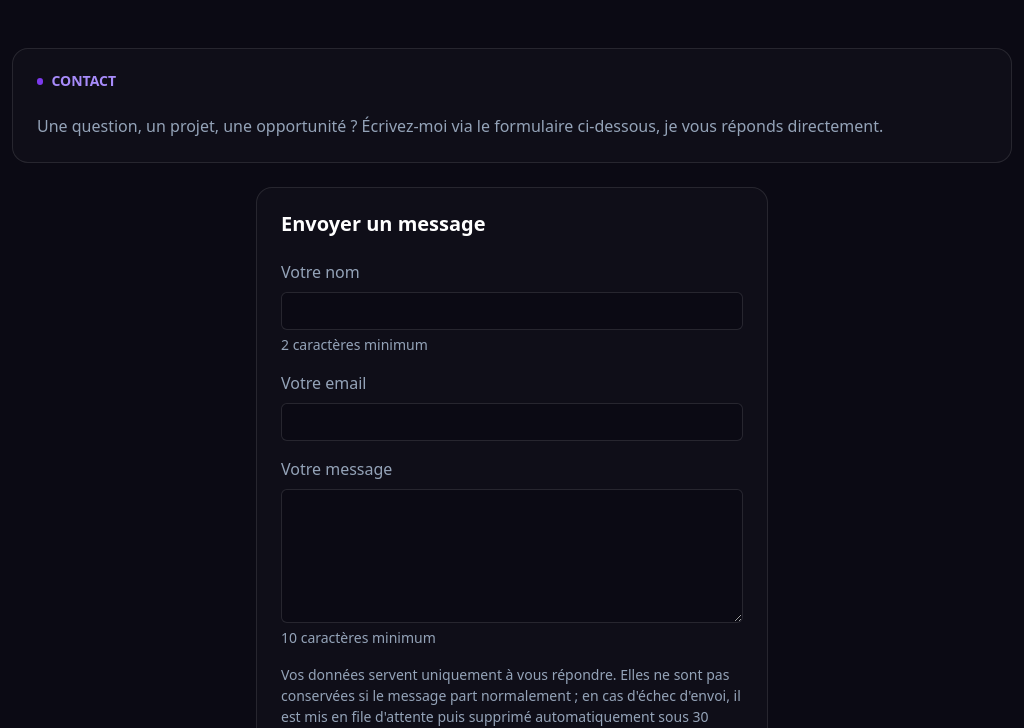
Test: ContactPage › signale le champ refusé sous le champ lui-même et l'y relie par aria-describedby
In the field with id "contact-name": (512, 311) [281,292,743,330], type "Jane Doe"
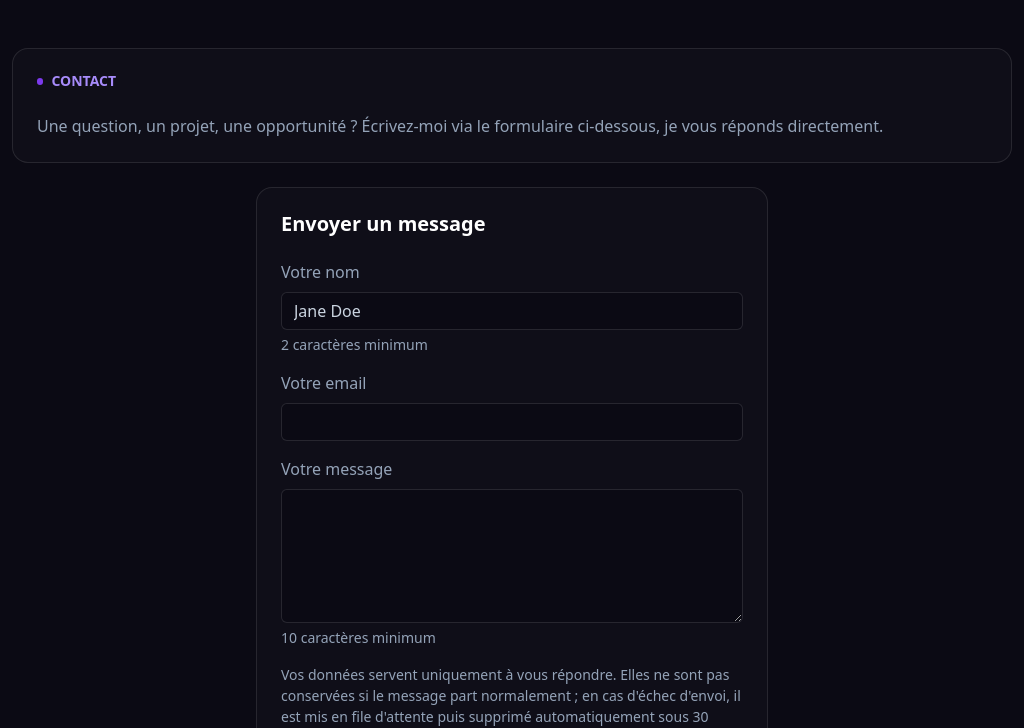
In the field with id "contact-email": (512, 422) [281,403,743,441], type "jane@example.com"
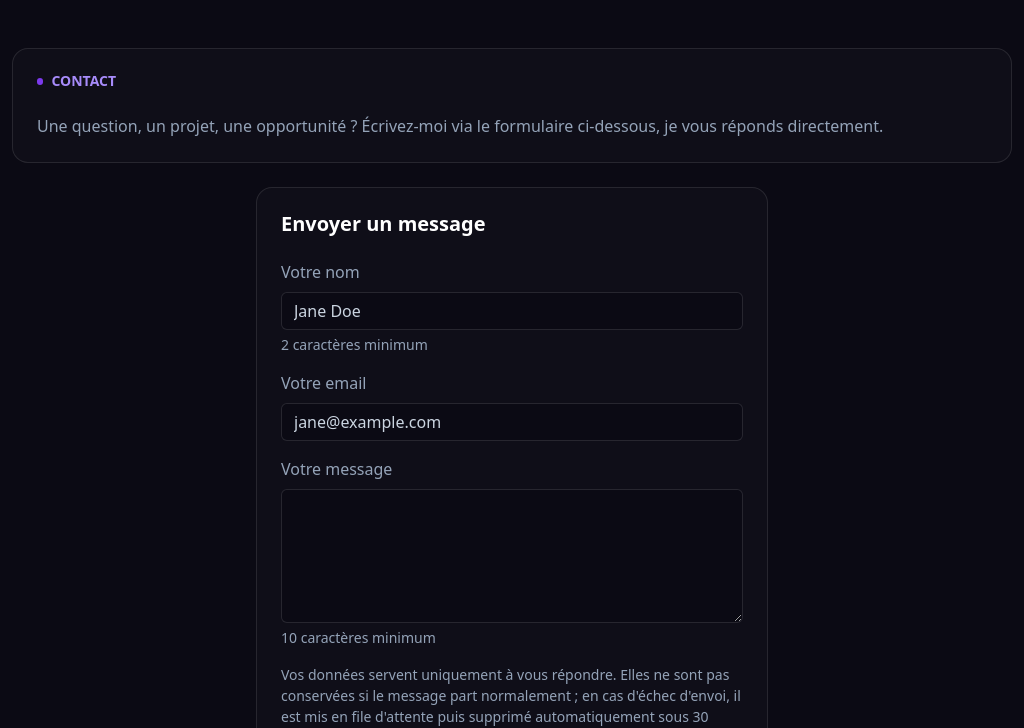
In the text box with id "contact-message": (512, 556) [281,489,743,623], type "Bonjour, je vous contacte au sujet de..."
(page scrolled)
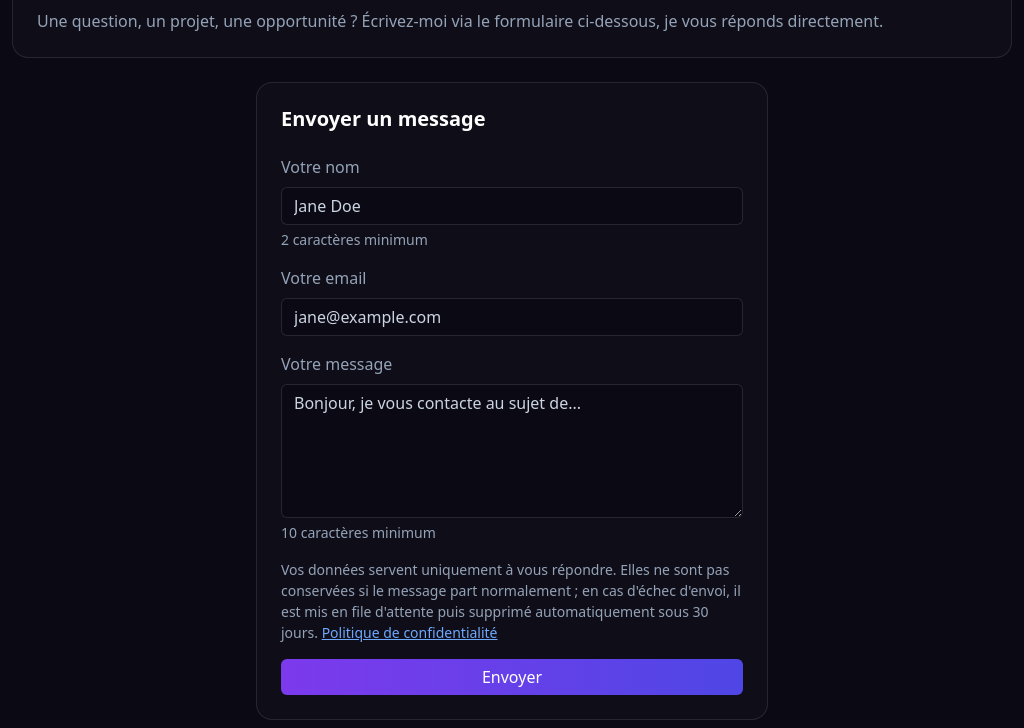
Submit the form, box [281,155,743,695]
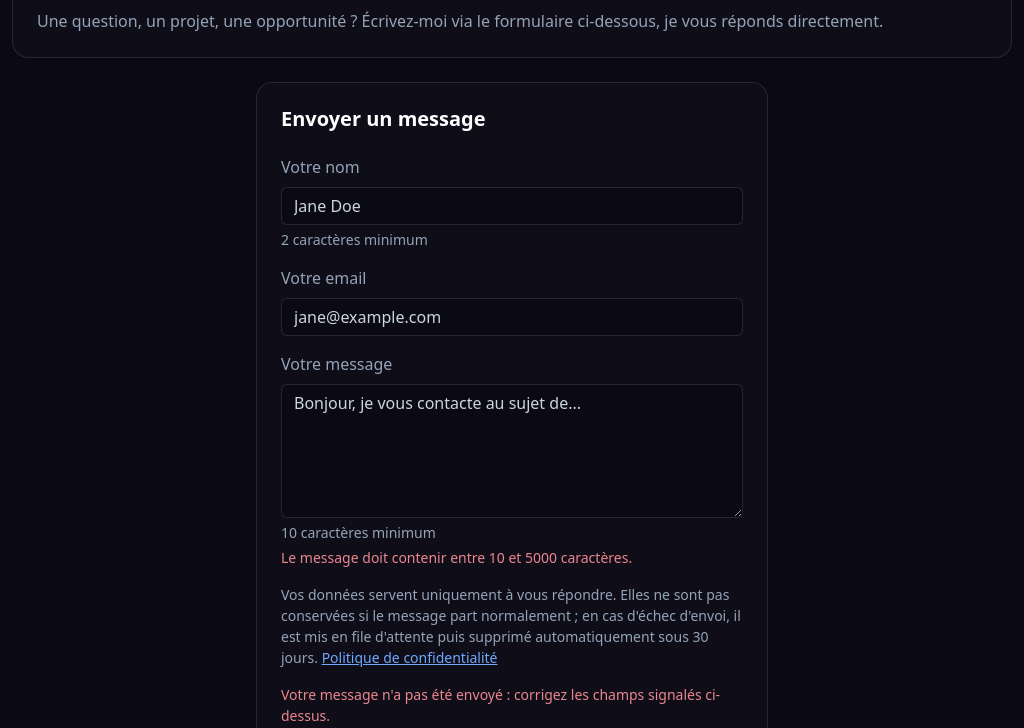
Now the text with id "contact-message-error" shows "entre 10 et 5000 caractères", box [281,548,632,567]
Now the message "Votre message n'a pas été envoyé : corrigez les champs signalés ci-dessus." is shown, box [281,684,743,726]
